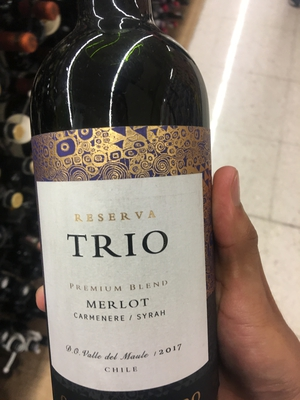trio merlot: (33, 25, 220, 400)
